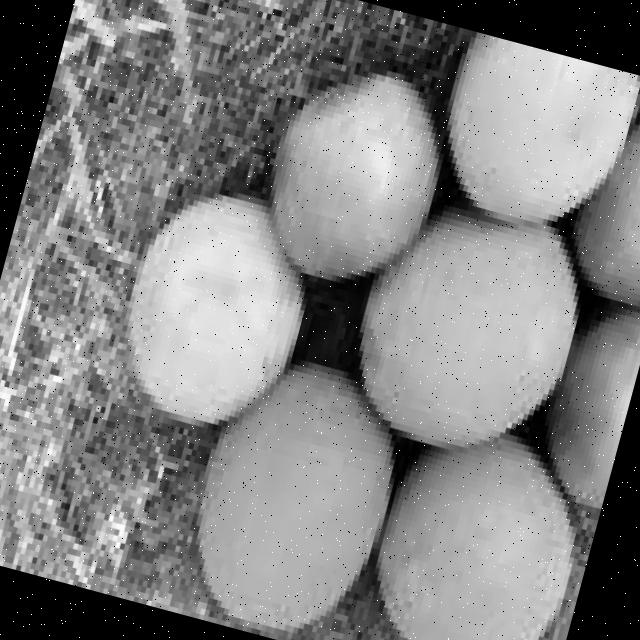Good_Orange-15-21 days: (127, 27, 640, 640)
